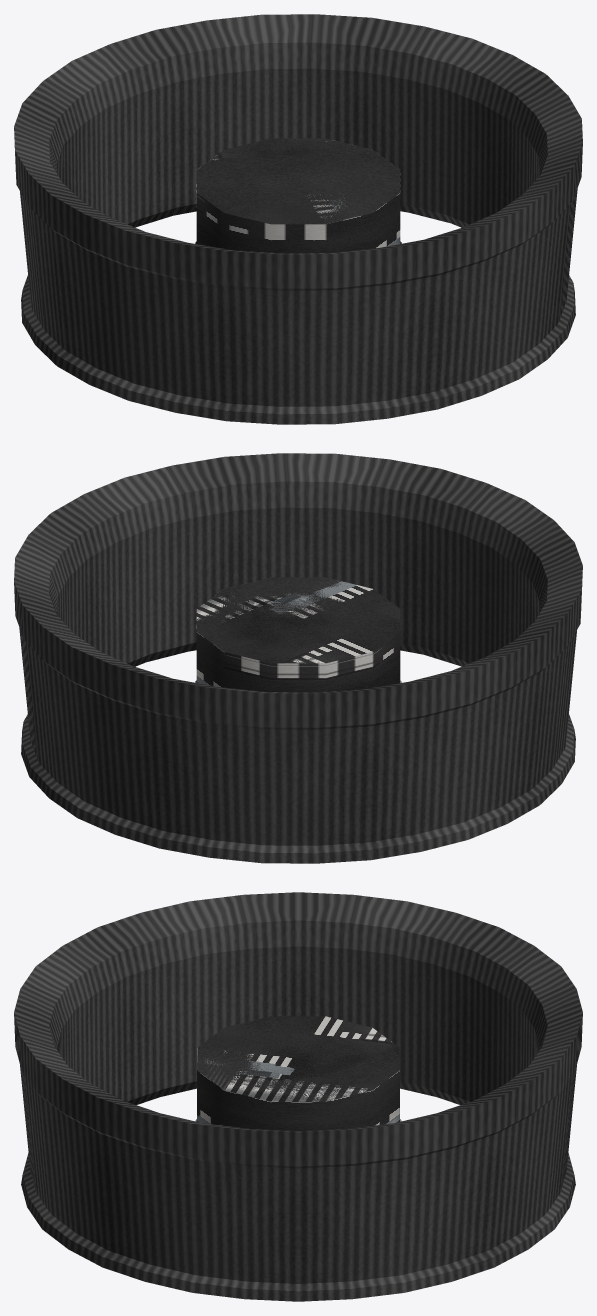
File: Mercury_Pod_Engine.FBX
3 views of the same model, one above another, from view 1: azimuth 30°, elevation 25°; view 2: azimuth 150°, elevation 25°; view 3: azimuth 270°, elevation 25° (orthographic).
Parts seen in each view (by area): view 1: fairing, Mercury_Pod_Engine, NodeCol; view 2: fairing, NodeCol, Mercury_Pod_Engine; view 3: fairing, NodeCol, Mercury_Pod_Engine.
Part boxes in pixels (x1=…): fairing: x1=14, y1=14, x2=582, y2=424; Mercury_Pod_Engine: x1=195, y1=138, x2=401, y2=243; NodeCol: x1=196, y1=138, x2=400, y2=253; fairing: x1=14, y1=453, x2=582, y2=863; NodeCol: x1=196, y1=578, x2=400, y2=692; Mercury_Pod_Engine: x1=195, y1=577, x2=401, y2=682; fairing: x1=14, y1=892, x2=582, y2=1301; NodeCol: x1=197, y1=1016, x2=399, y2=1131; Mercury_Pod_Engine: x1=195, y1=1016, x2=401, y2=1121.
Bounding box in the file's own units: 127 × 44.97 × 127.
Materials: 2 (1 with a texture image).
